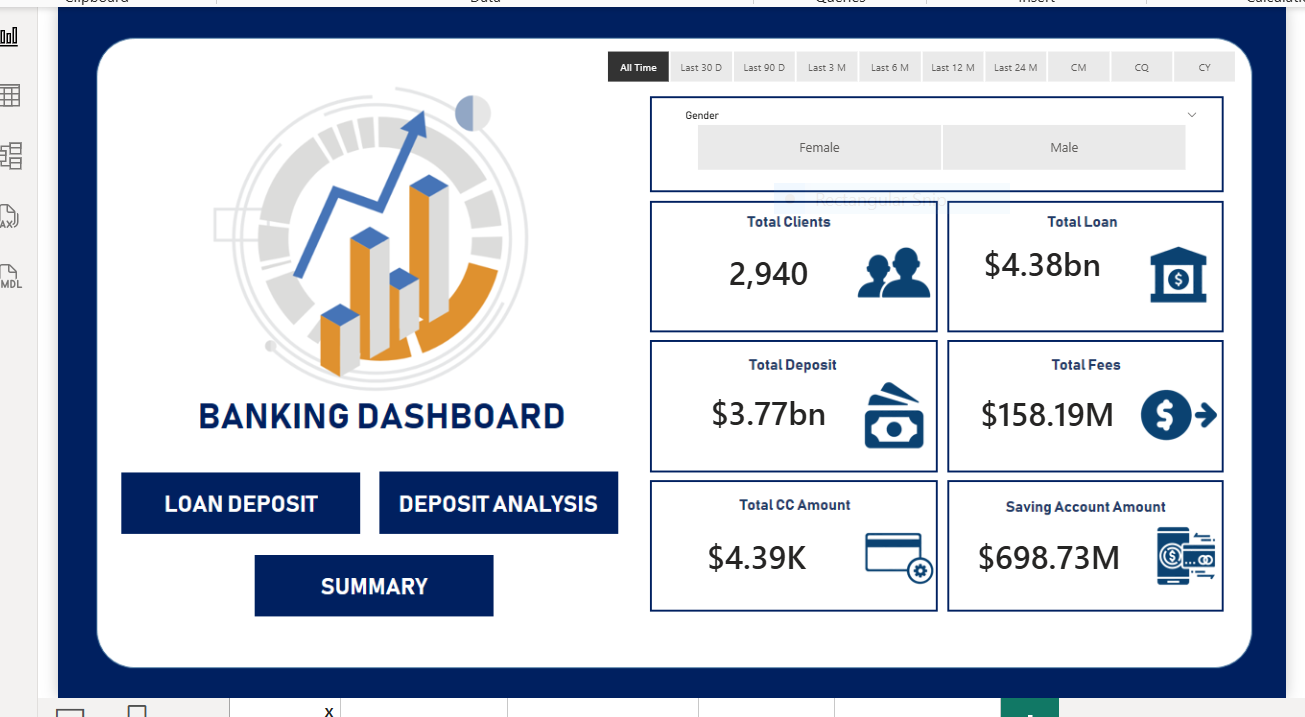

The dashboard page shown, as its layout file describes it:
{"tool":"powerbi","page":{"name":"Home","canvas":[1280,720],"ordinal":0},"visuals":[{"type":"slicer","fields":{"Values":["Gender.Gender"]},"box":[640.3,100.8,558.2,75],"z":0},{"type":"card","fields":{"Values":["DAX Measures.Total Clients"]},"box":[640.3,218.1,198.2,114.9],"z":1000},{"type":"card","fields":{"Values":["DAX Measures.Total Loan"]},"box":[933.4,208.7,184.1,114.9],"z":2000},{"type":"card","fields":{"Values":["DAX Measures.Total Deposit"]},"box":[640.3,374.1,198.2,98.5],"z":3000},{"type":"card","fields":{"Values":["DAX Measures.Total CC Amount"]},"box":[628.5,533.6,198.2,79.7],"z":4000},{"type":"card","fields":{"Values":["DAX Measures.Total Fees"]},"box":[938.1,372.9,185.3,99.7],"z":5000},{"type":"card","fields":{"Values":["DAX Measures.Savings Account"]},"box":[933.4,533.6,198.2,79.7],"z":6000},{"type":"actionButton","box":[63.3,483.1,253.3,65.7],"z":7000},{"type":"actionButton","box":[335.4,485.5,250.9,63.3],"z":8000},{"type":"actionButton","box":[205.2,573.4,255.6,61],"z":9000},{"type":"slicer","fields":{"Values":["Period.Name"]},"box":[546.4,38.7,703.6,45.7],"z":10000}]}

Visuals, with their boxes on the page's 1280x720 design canvas (x1, y1, x2, y2). These are canvas units, not pixel positions in the 1305x717 screenshot, which may show the page scaled, cropped or inside an application window:
slicer - Gender.Gender: bbox(640, 101, 1198, 176)
card - DAX Measures.Total Clients: bbox(640, 218, 838, 333)
card - DAX Measures.Total Loan: bbox(933, 209, 1118, 324)
card - DAX Measures.Total Deposit: bbox(640, 374, 838, 473)
card - DAX Measures.Total CC Amount: bbox(628, 534, 827, 613)
card - DAX Measures.Total Fees: bbox(938, 373, 1123, 473)
card - DAX Measures.Savings Account: bbox(933, 534, 1132, 613)
actionButton: bbox(63, 483, 317, 549)
actionButton: bbox(335, 486, 586, 549)
actionButton: bbox(205, 573, 461, 634)
slicer - Period.Name: bbox(546, 39, 1250, 84)
